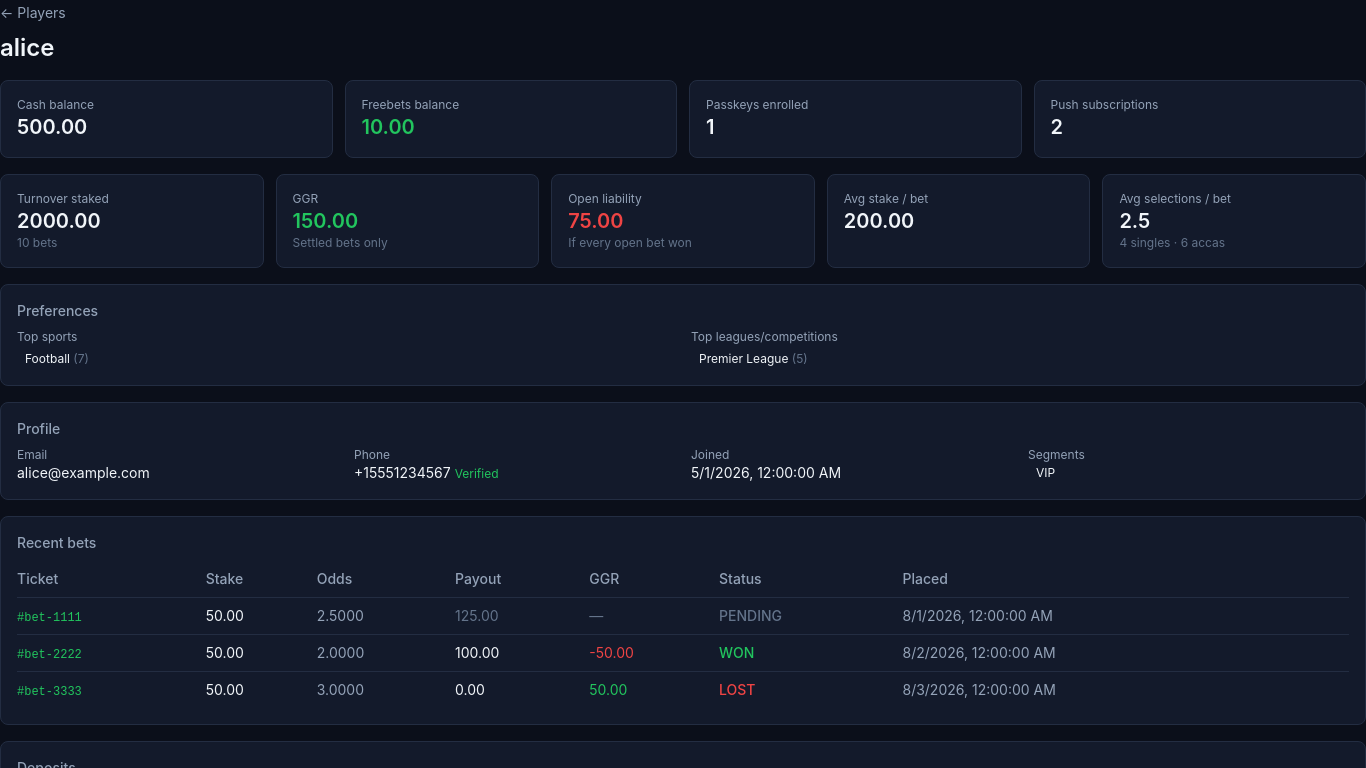
PlayerDetailPage › opens a side panel with the full ticket when a bet reference is clicked, closes on request
expect the text "Arsenal vs Chelsea" is not shown: met
Click the button "#bet-1111" at (49, 618), box [17,610,82,626]
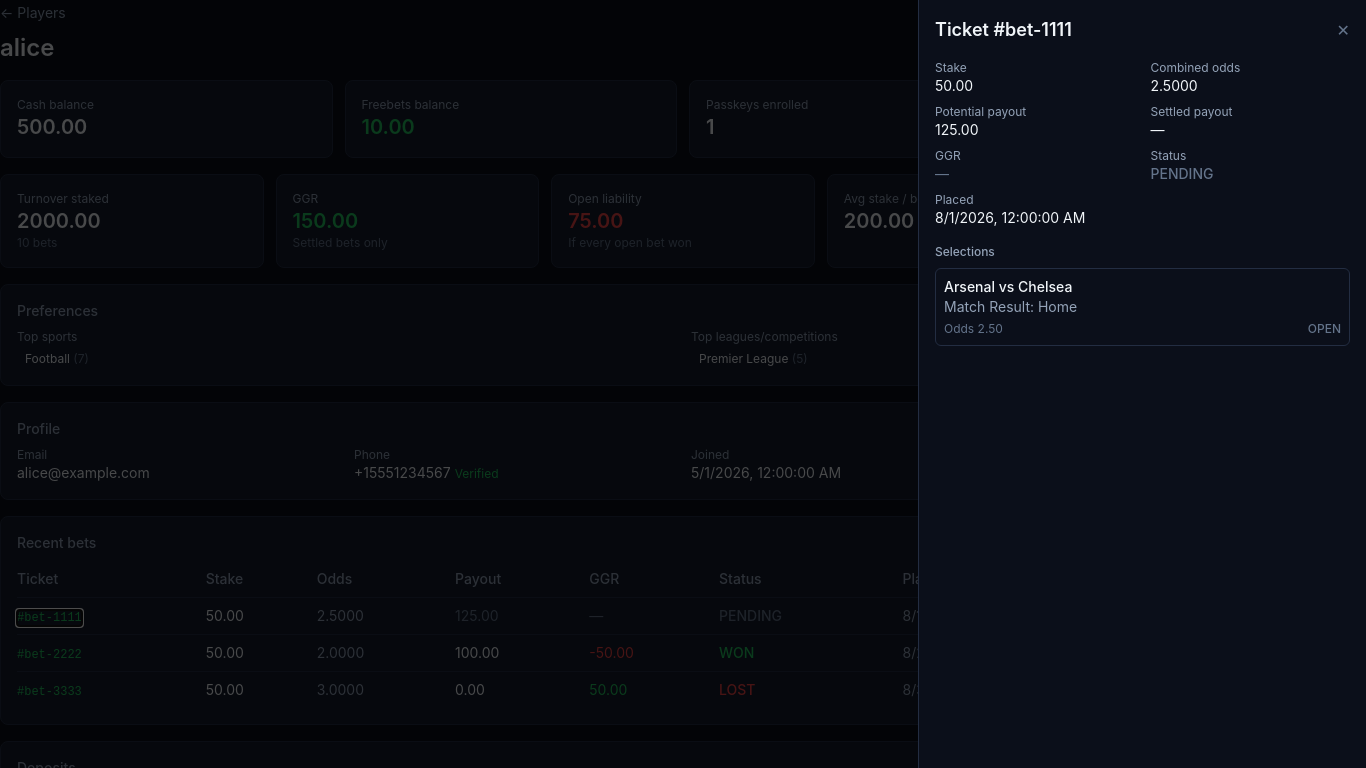
expect the text "Arsenal vs Chelsea" is shown: met, box [944,278,1072,295]
expect the text "Match Result: Home" is shown: met, box [944,298,1077,315]
Click the button named "Close panel" at (683, 384), box [0,0,1365,767]
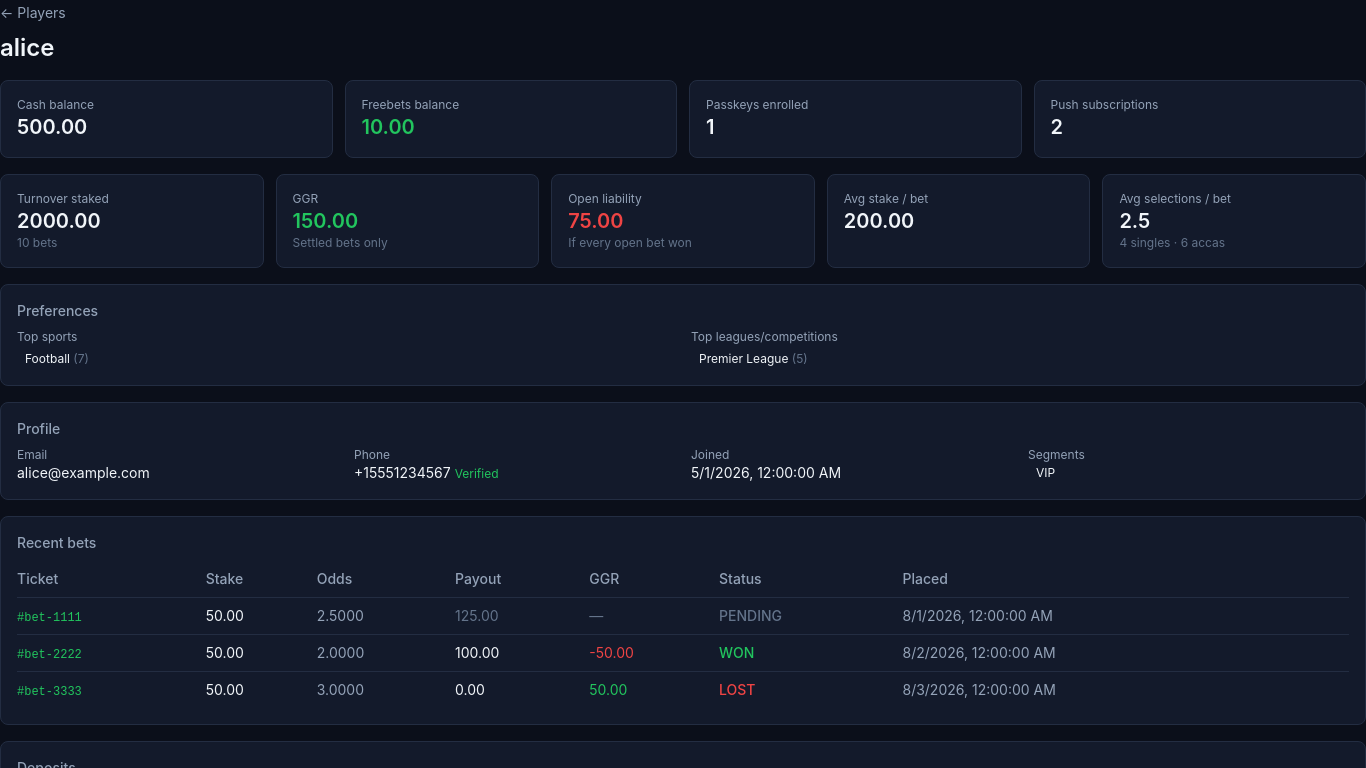
expect the text "Arsenal vs Chelsea" is gone: met
